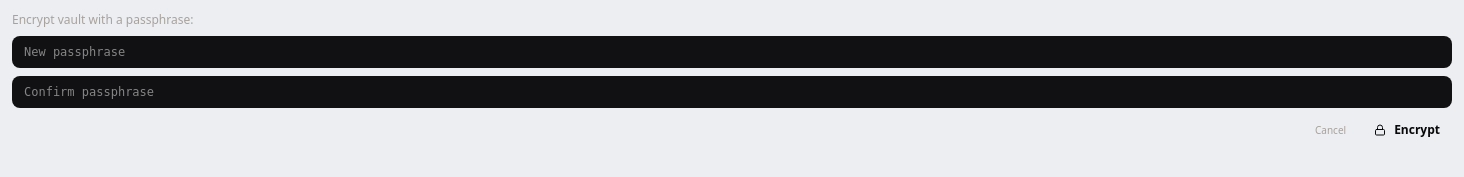
Scenario: VaultEncryptForm — encrypt mode › rejects mismatched passphrases
Type "long-enough-pass" into the password field with placeholder "New passphrase" at (732, 52), box [12,36,1452,68]
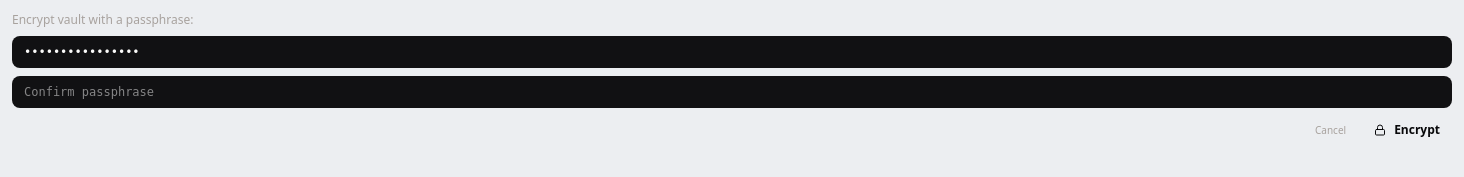
Type "different-pass" into the password field with placeholder "Confirm passphrase" at (732, 92), box [12,76,1452,108]
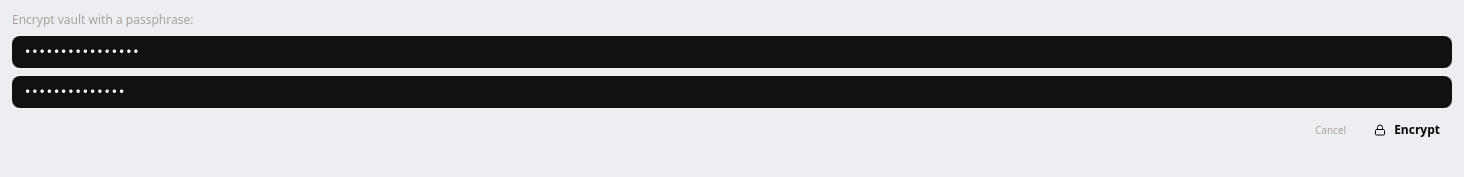
Click the button "Encrypt" at (1407, 130), box [1362,116,1452,144]
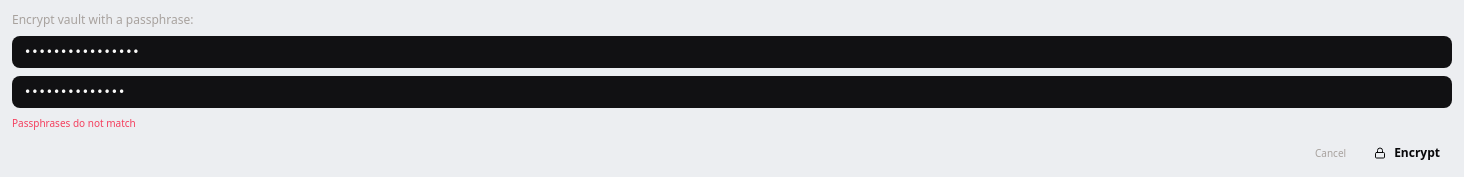
Check: the text "Passphrases do not match" is shown, box [12,116,136,130]
